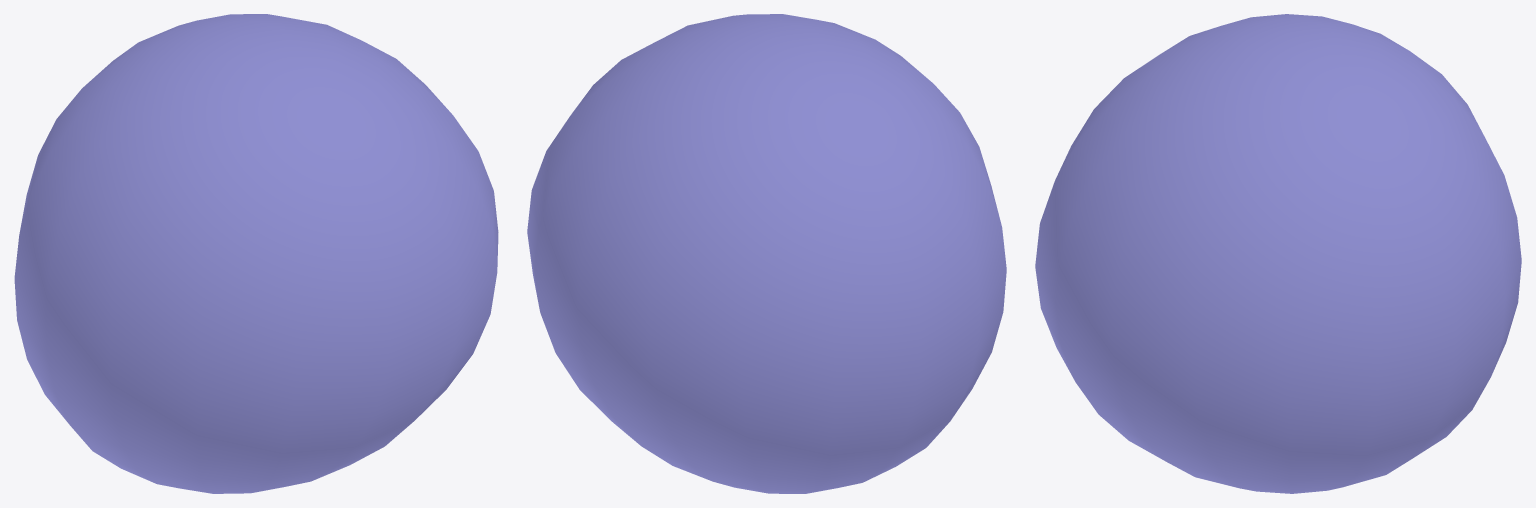
The model's file is phantom.glb.
The picture shows the model from 3 angles, left to right: view 1: azimuth 30°, elevation 25°; view 2: azimuth 150°, elevation 25°; view 3: azimuth 270°, elevation 25°; orthographic projection. The views are drawn at different scales.
Size of the model in its own units: 0.8189 by 0.8 by 0.7997.
